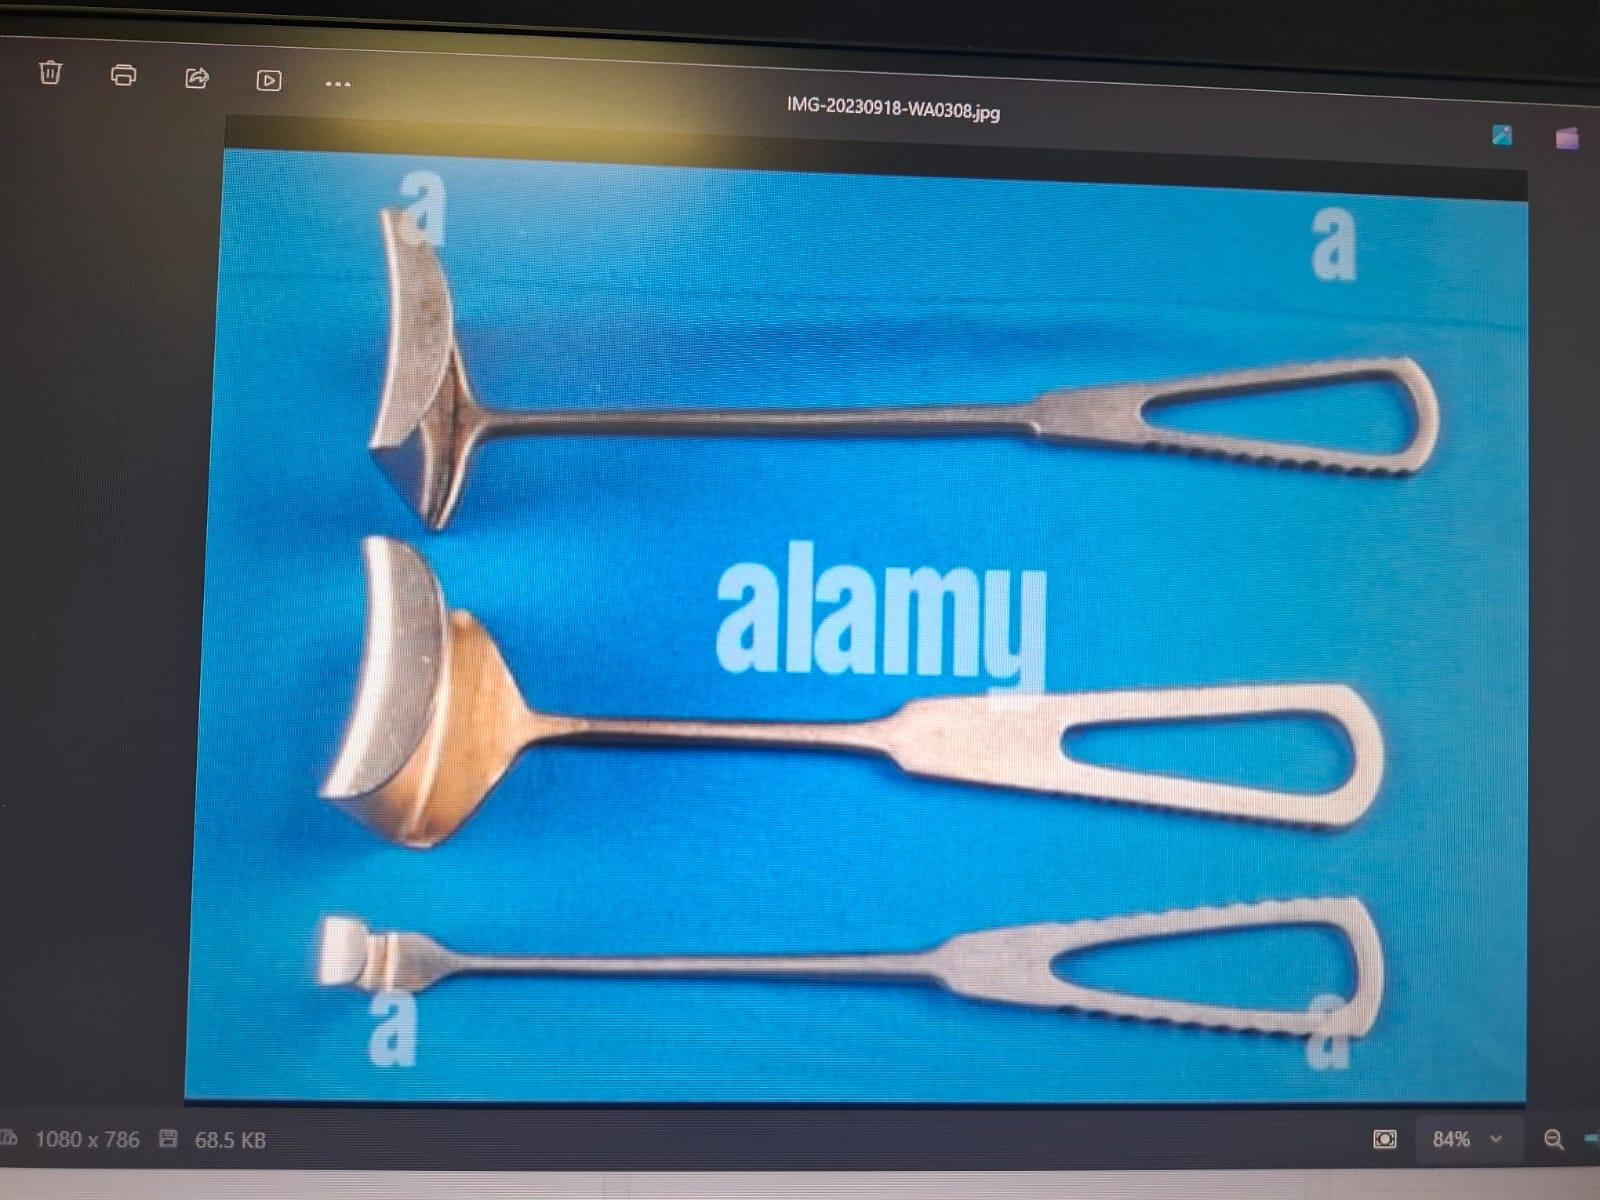Morris Retractor: (358, 187, 1478, 542), (310, 526, 1376, 860)
